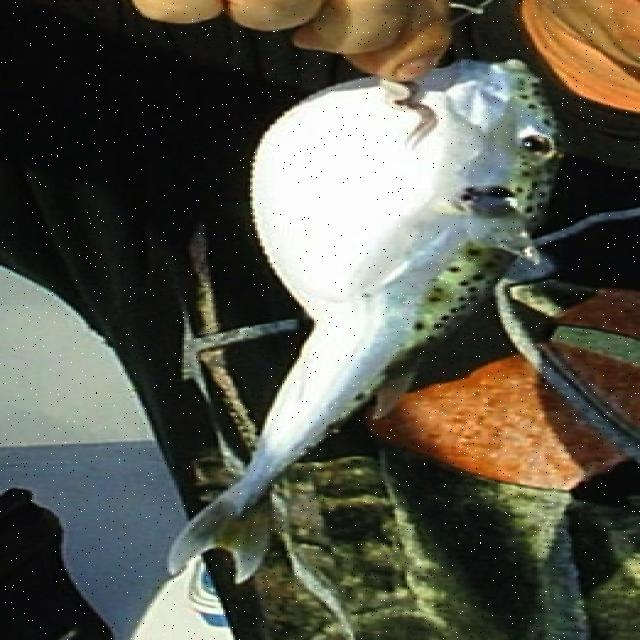Balik: (170, 61, 559, 581)
